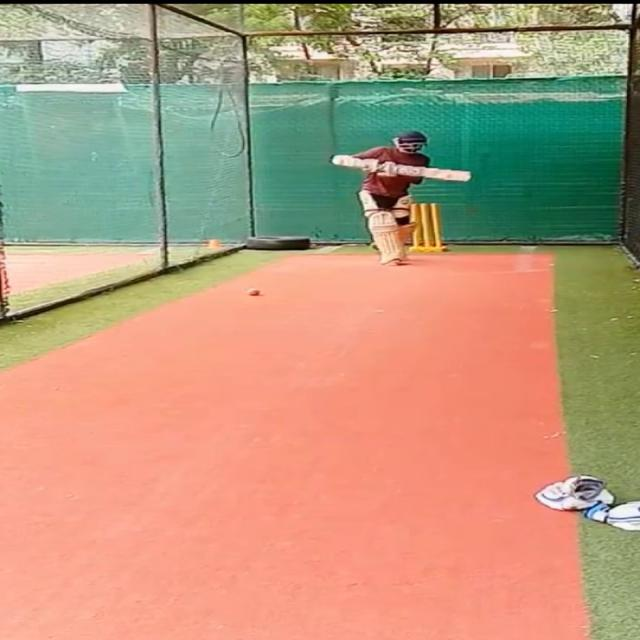ball: (249, 287, 262, 297)
stump: (409, 201, 446, 251)
